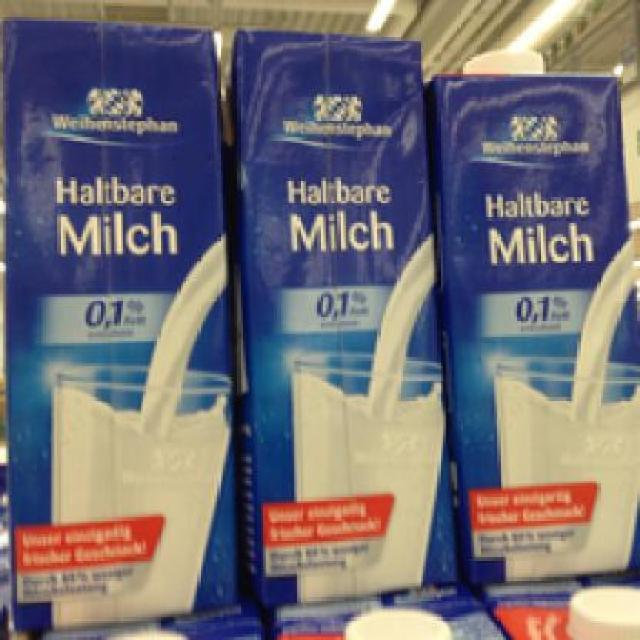Milk: (0, 14, 246, 617), (223, 20, 466, 606), (428, 48, 638, 586)
